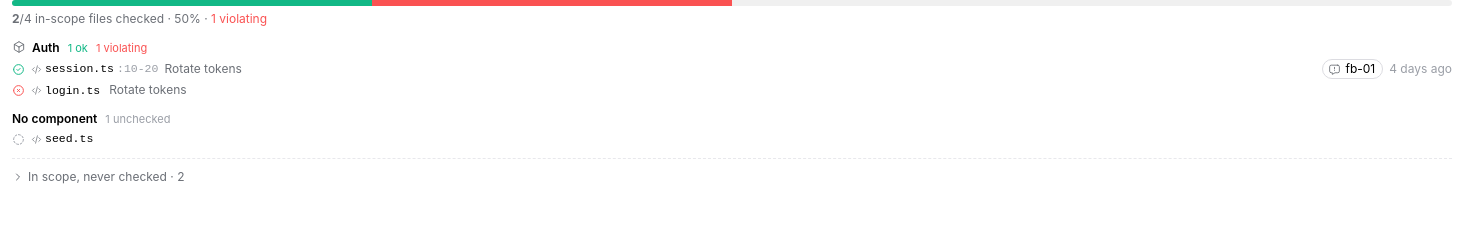
Test: Where it is used › groups locations by component with states, a coverage bar and the unchecked in-scope files
Expected: the element with test id "wu-group" shows "Auth", [32,40,60,55]
Expected: the element with test id "wu-group" shows "1 violating", [12,39,1452,100]
Click the button "In scope, never checked · 2" at x=98, y=177, box [12,168,184,186]
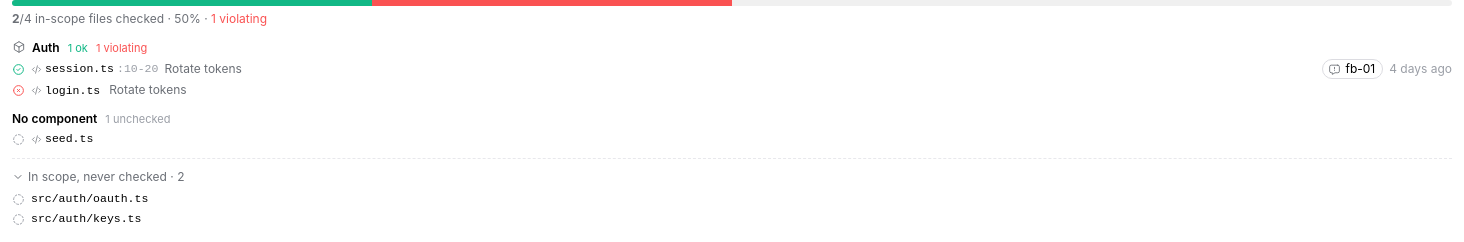
Expected: the text "src/auth/oauth.ts" is shown, [31,190,148,208]
